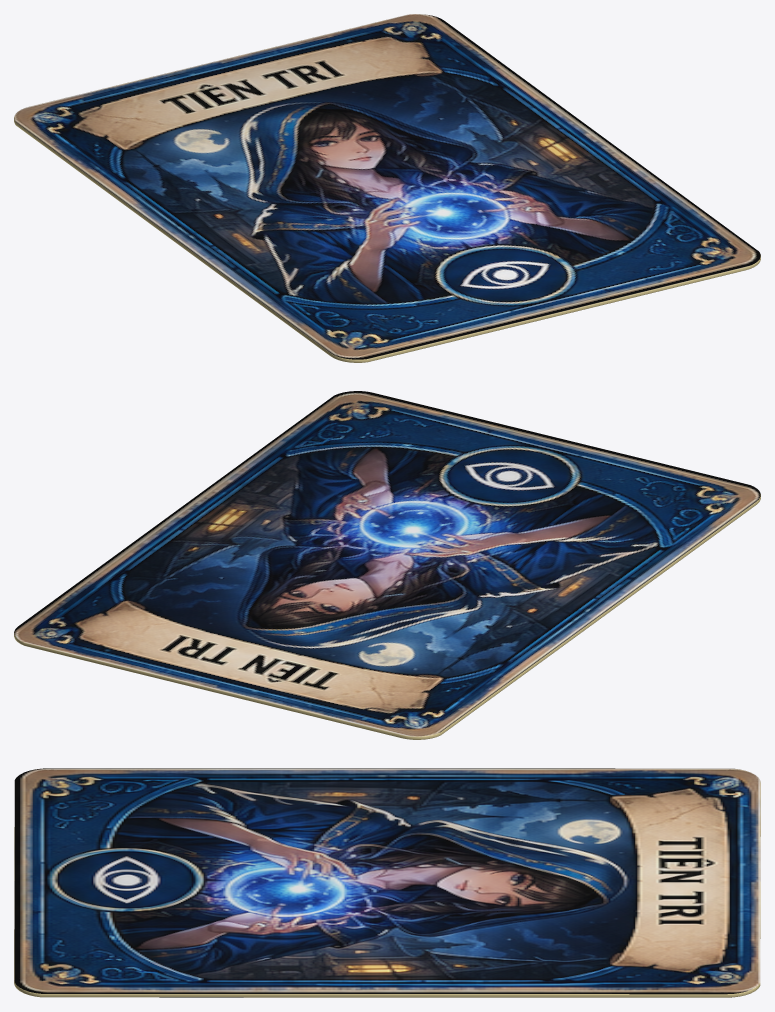
The model's file is RoleCard_Seer.glb.
3 renders of one model, top to bottom at view 1: azimuth 30°, elevation 25°; view 2: azimuth 150°, elevation 25°; view 3: azimuth 270°, elevation 25°, orthographic. The views are drawn at different scales.
Parts seen in each view (by area): view 1: RoleCard; view 2: RoleCard; view 3: RoleCard.
Part boxes in pixels (x1,y1,x2,y2): RoleCard: (14, 14, 760, 362); RoleCard: (14, 391, 760, 739); RoleCard: (14, 768, 760, 997).
Size of the model in its own units: 0.63 by 0.005 by 0.88.
Materials: 3 (2 with a texture image).
